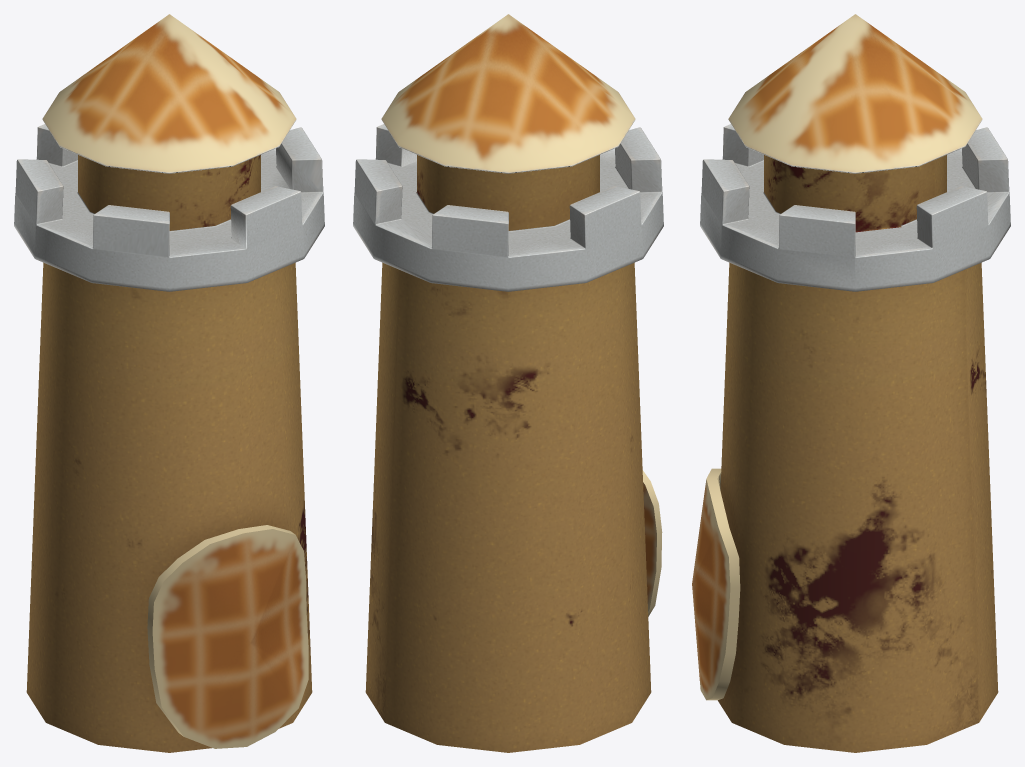
File: Mod_Tour_2.gltf
3 views of the same model, side by side, from view 1: azimuth 30°, elevation 25°; view 2: azimuth 150°, elevation 25°; view 3: azimuth 270°, elevation 25° (orthographic).
Parts seen in each view (by area): view 1: Tour_2; view 2: Tour_2; view 3: Tour_2.
Part boxes in pixels (x1,y1,x2,y2): Tour_2: (14, 14, 324, 752); Tour_2: (353, 14, 663, 752); Tour_2: (692, 14, 1010, 752).
Bounding box in the file's own units: 5.2 × 12.52 × 5.33.
